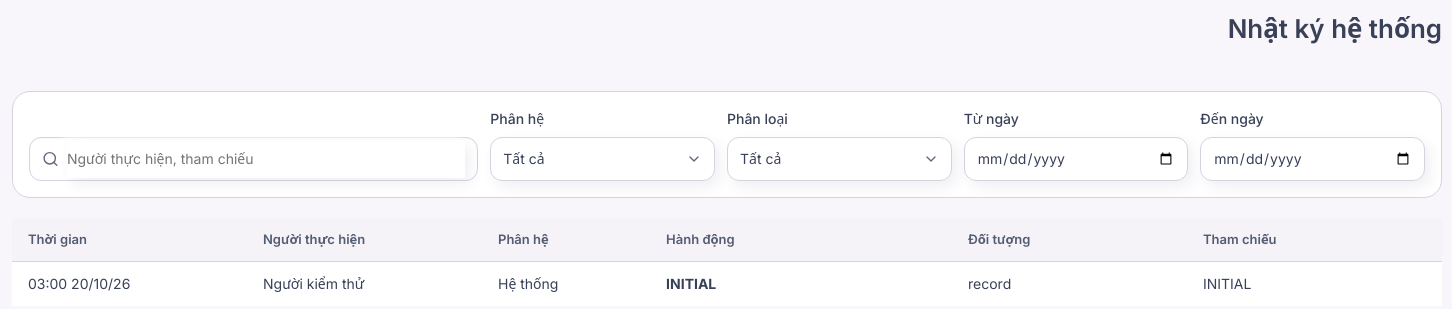
it: audit log loading recovery › retains existing rows during filtering and ignores a stale response
Expected: the 1st text "INITIAL" is shown, [666, 275, 716, 292]
Type "old" into the search field at (266, 159), box [67, 140, 465, 178]
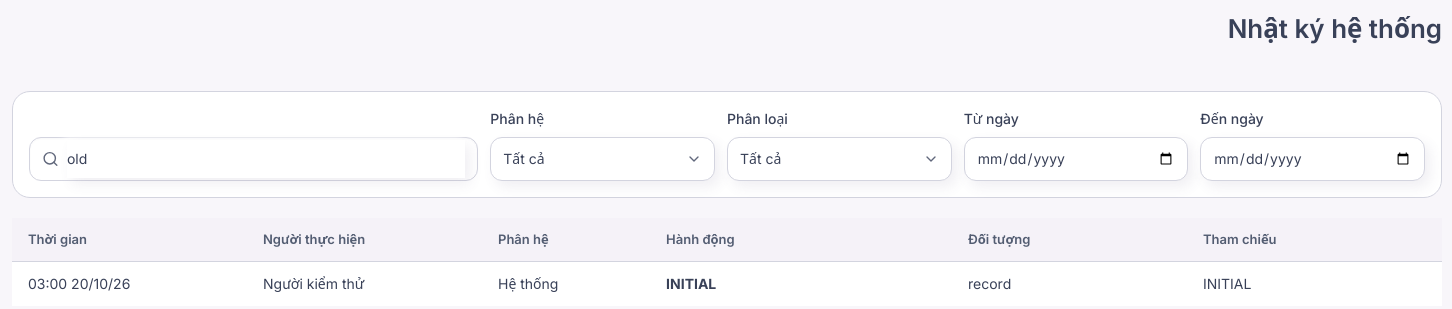
Expected: the 1st text "INITIAL" is shown, [666, 275, 716, 292]
Replace the text in the search field with "latest" at (266, 159), box [67, 140, 465, 178]
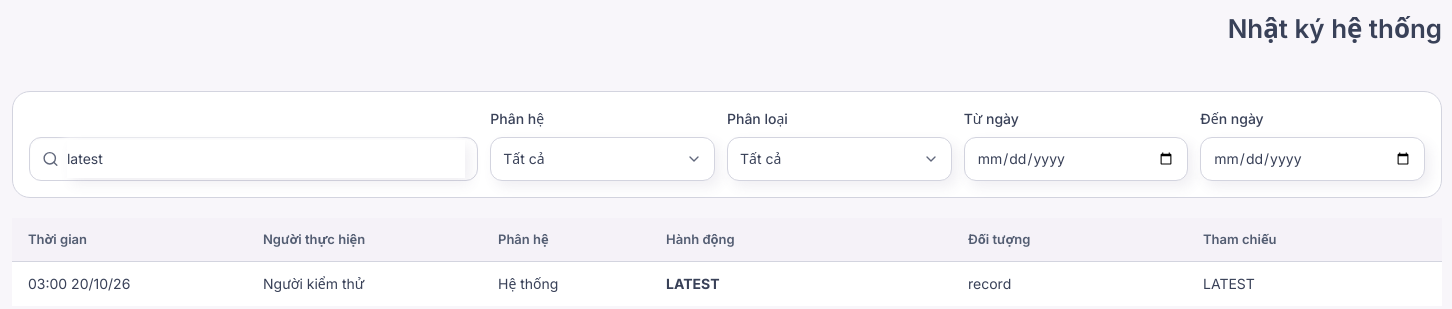
Result: the 1st text "LATEST" is shown at [666, 275, 720, 292]
